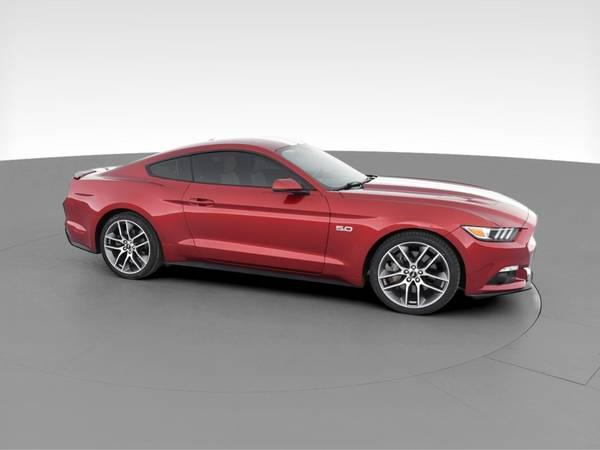Front_Bumper: (447, 208, 536, 292)
Front_Fender: (326, 192, 499, 284)
Front_Right_Door: (185, 181, 335, 278)
Front_Right_Window: (191, 148, 318, 192)
Front_Windshield: (281, 144, 377, 191)
Hood: (335, 175, 530, 227)
Rear_Bumper: (64, 203, 98, 253)
Rear_Fender: (65, 156, 200, 263)
Right_Headlight: (462, 224, 525, 240)
Roof: (90, 136, 332, 192)
Wheel: (368, 234, 461, 319), (100, 214, 159, 276)
